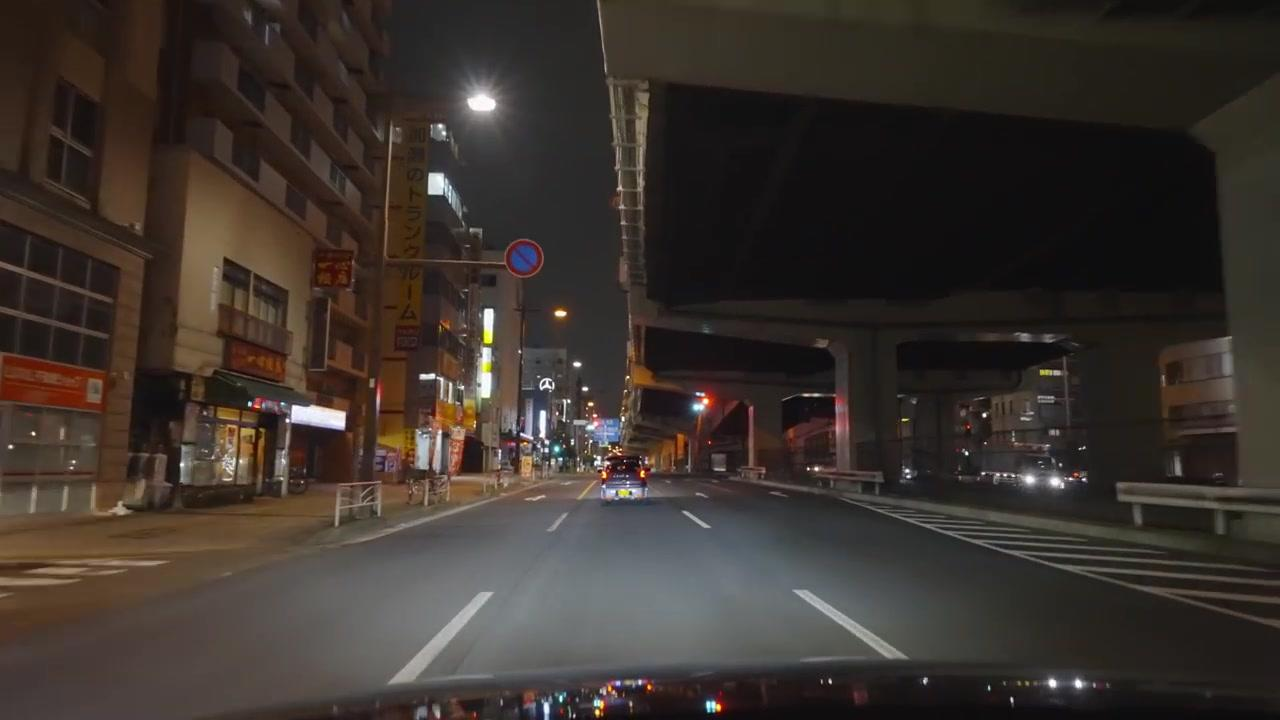car: (599, 455, 651, 504)
